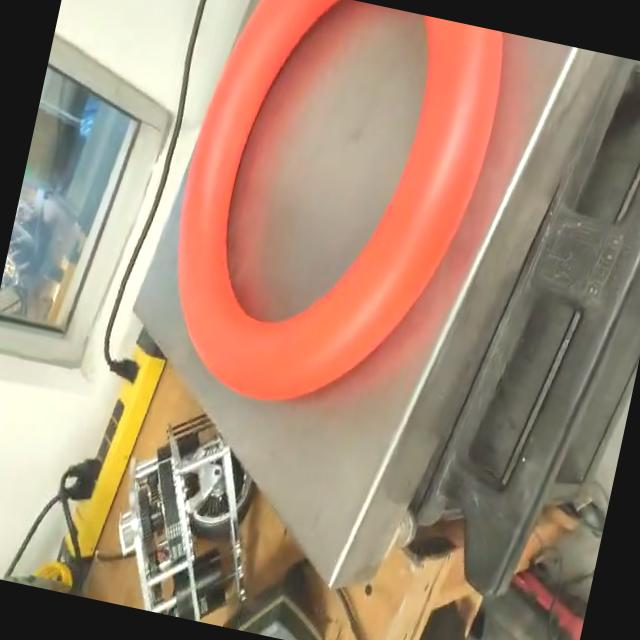note: (140, 0, 516, 439)
